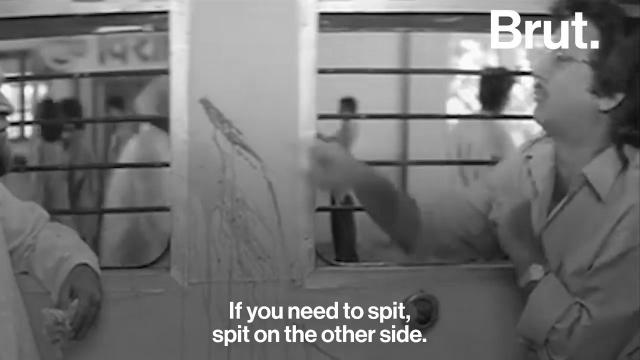spit: (198, 100, 296, 284)
